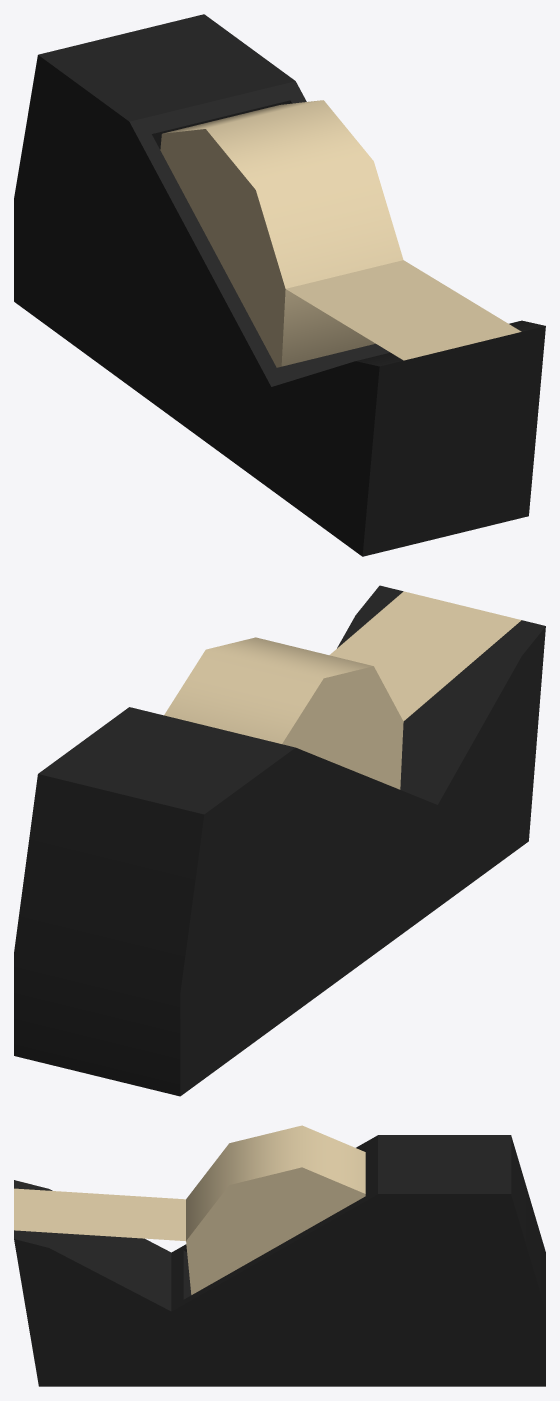
The model's file is Asset_TapeDispenser.fbx.
3 renders of one model, top to bottom at view 1: azimuth 30°, elevation 25°; view 2: azimuth 150°, elevation 25°; view 3: azimuth 270°, elevation 25°, orthographic. The views are drawn at different scales.
Visible parts, largest first — view 1: Asset_TapeDispenser; view 2: Asset_TapeDispenser; view 3: Asset_TapeDispenser.
Part boxes in pixels (x1=…): Asset_TapeDispenser: x1=14, y1=14, x2=545, y2=556; Asset_TapeDispenser: x1=14, y1=585, x2=545, y2=1096; Asset_TapeDispenser: x1=14, y1=1125, x2=545, y2=1386.
Size of the model in its own units: 5.57 by 9.26 by 21.2.
